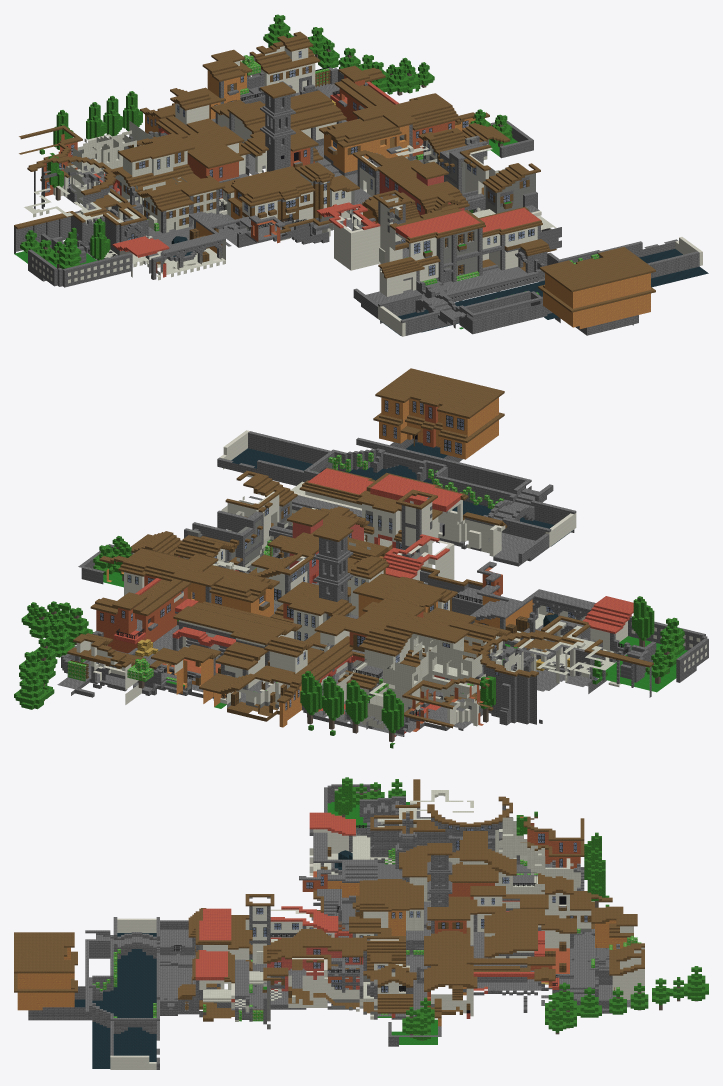
The model's file is La Inferno.glb.
The picture shows the model from 3 angles, top to bottom: view 1: azimuth 30°, elevation 25°; view 2: azimuth 150°, elevation 25°; view 3: azimuth 270°, elevation 25°; orthographic projection. The views are drawn at different scales.
Parts seen in each view (by area): view 1: Wood, Wall, Stone, Stone.003, Trees, Wall 2, Wall init, Red, Stone.001, Glass, Water, Wall 1 (+7 smaller); view 2: Wood, Stone, Wall, Trees, Red, Wall init, Stone.003, Stone init, Glass init, Water, Wall 2, Wall Too (+9 smaller); view 3: Wood, Stone, Wall, Stone.003, Trees, Water, Red, Wall init, Stone init, Stone.002, Stone.001, Glass (+5 smaller).
Part boxes in pixels (box(x1,y1,x2,y2)): Wood: box(14, 31, 655, 312); Wall: box(32, 35, 702, 336); Stone: box(14, 67, 699, 335); Stone.003: box(16, 68, 699, 335); Trees: box(20, 14, 598, 298); Wall 2: box(145, 70, 650, 328); Wall init: box(24, 105, 495, 267); Red: box(93, 81, 540, 277); Stone.001: box(33, 69, 537, 277); Glass: box(46, 51, 534, 275); Water: box(173, 236, 708, 335); Wall 1: box(44, 77, 454, 242); Wood: box(67, 368, 653, 728); Stone: box(57, 431, 708, 736); Wall: box(76, 397, 706, 736); Trees: box(14, 452, 684, 748); Red: box(114, 468, 633, 736); Wall init: box(174, 508, 621, 729); Stone.003: box(63, 431, 627, 735); Stone init: box(75, 480, 707, 736); Glass init: box(96, 400, 596, 710); Water: box(231, 442, 573, 619); Wall 2: box(121, 397, 529, 727); Wall Too: box(90, 500, 505, 666); Wood: box(14, 779, 644, 1021); Stone: box(28, 784, 630, 1069); Wall: box(17, 789, 644, 1069); Stone.003: box(28, 805, 630, 1069); Trees: box(92, 777, 708, 1040); Water: box(74, 851, 352, 1068); Red: box(195, 812, 559, 1018); Wall init: box(249, 790, 580, 1000); Stone init: box(117, 784, 612, 1017); Stone.002: box(85, 801, 618, 1019); Stone.001: box(89, 856, 619, 1046); Glass: box(252, 825, 587, 992).
Bounding box in the file's own units: 129 × 27.17 × 154.
28 materials, 28 textured.
